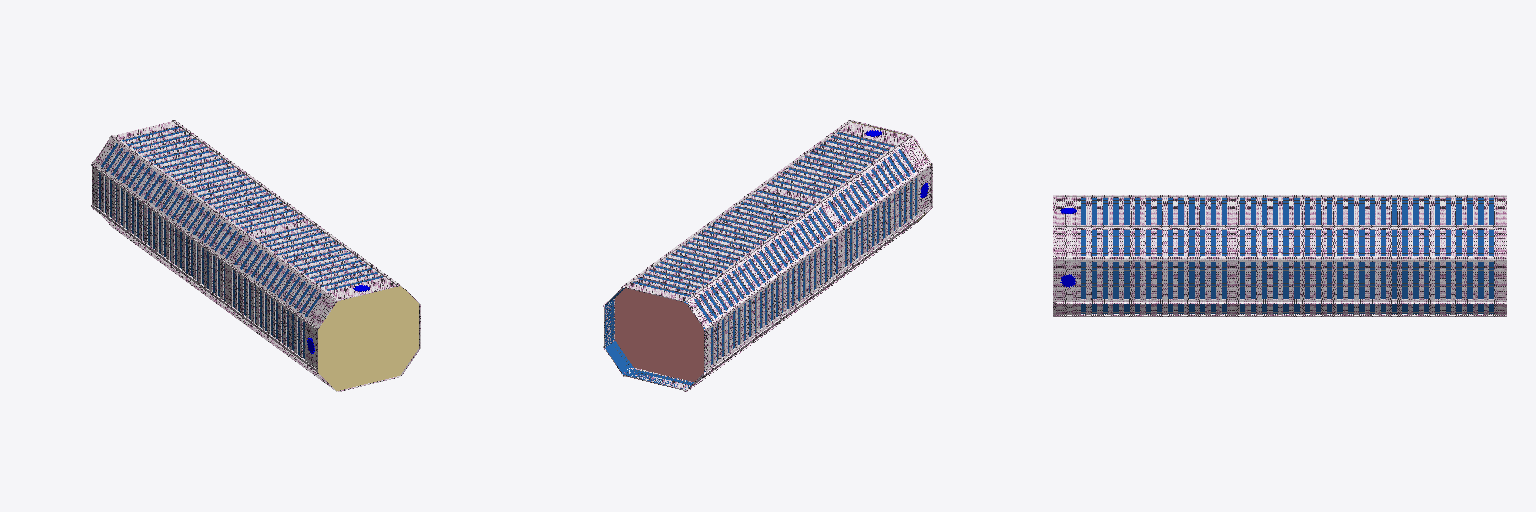
3 views of the same model, side by side, from view 1: azimuth 30°, elevation 25°; view 2: azimuth 150°, elevation 25°; view 3: azimuth 270°, elevation 25° (orthographic).
Parts seen in each view (by area): view 1: wall_02, slab_01, glaz_01, wall_01, frame_01; view 2: wall_02, glaz_01, slab_new_01, wall_01, frame_01; view 3: wall_02, glaz_01, wall_01, frame_01.
Boxes of the visible parts, <box> form: wall_02: <box>92,121,420,391</box>; slab_01: <box>318,286,418,390</box>; glaz_01: <box>99,127,382,358</box>; wall_01: <box>91,120,399,389</box>; frame_01: <box>99,127,381,352</box>; wall_02: <box>604,120,932,390</box>; glaz_01: <box>605,132,916,389</box>; slab_new_01: <box>615,288,703,381</box>; wall_01: <box>603,121,931,391</box>; frame_01: <box>611,134,916,382</box>; wall_02: <box>1053,195,1506,316</box>; glaz_01: <box>1081,198,1493,313</box>; wall_01: <box>1056,195,1506,316</box>; frame_01: <box>1081,200,1493,312</box>.
Bounding box in the file's own units: 1316 × 1121 × 5026.
Materials: 6 (1 with a texture image).